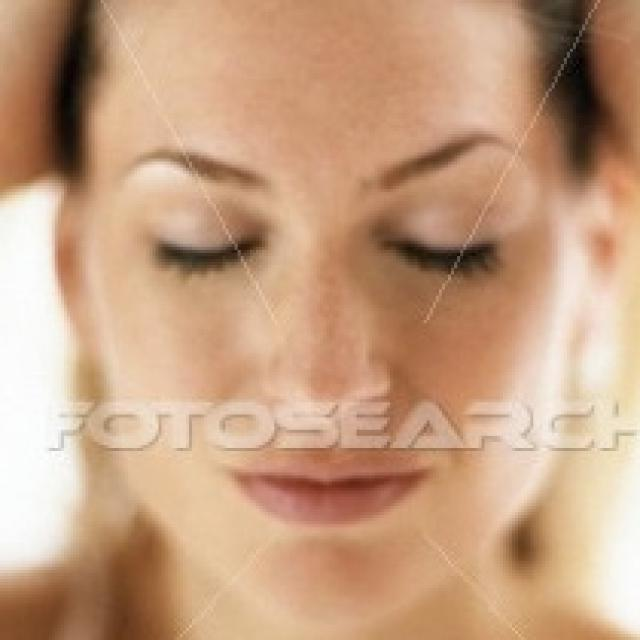sleepy: (94, 110, 556, 535)
